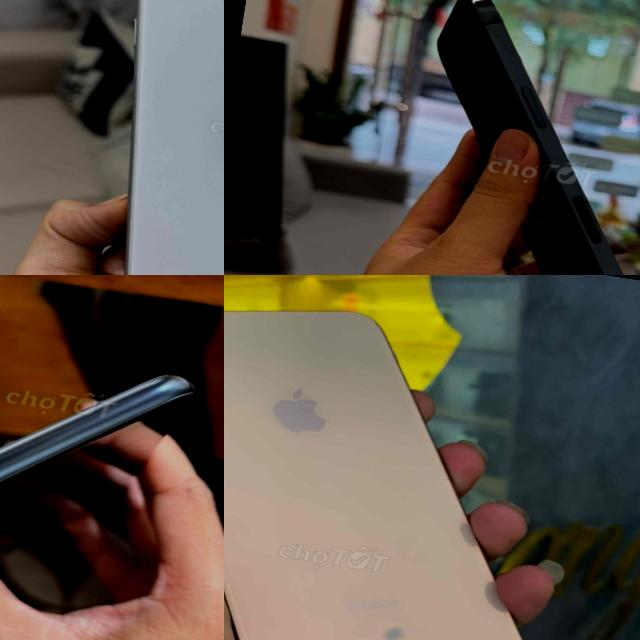scratch: (0, 325, 212, 612)
